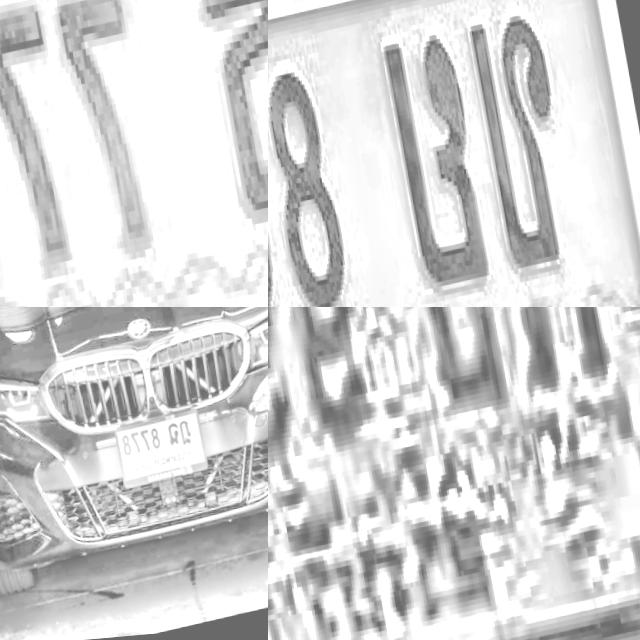license-plate: (268, 307, 640, 640), (268, 0, 640, 307), (0, 0, 268, 307), (110, 413, 204, 494)
